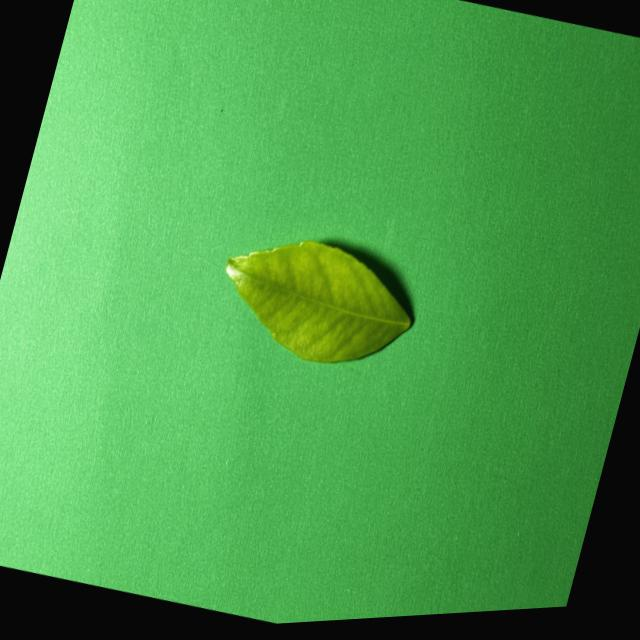greening: (226, 240, 410, 361)
